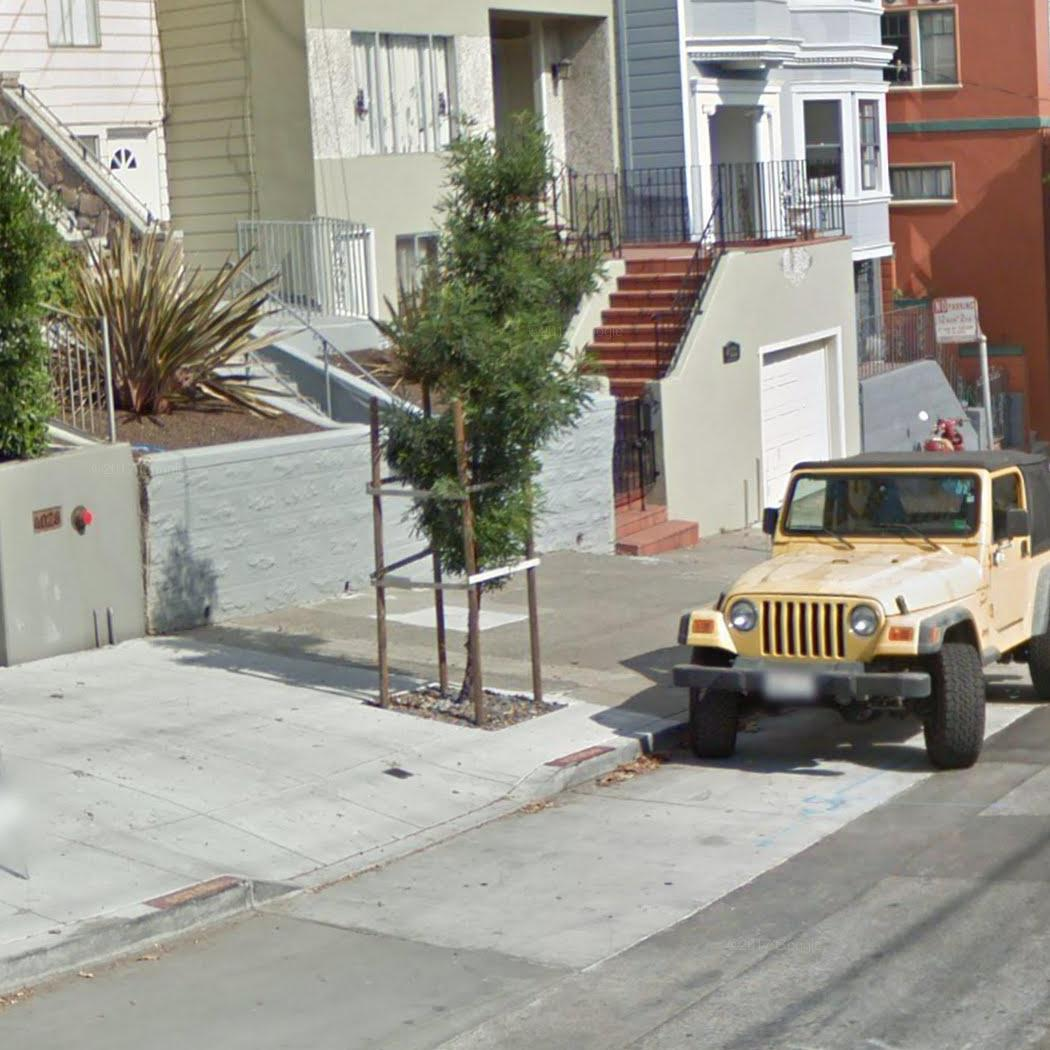No Parking: (927, 292, 984, 347)
